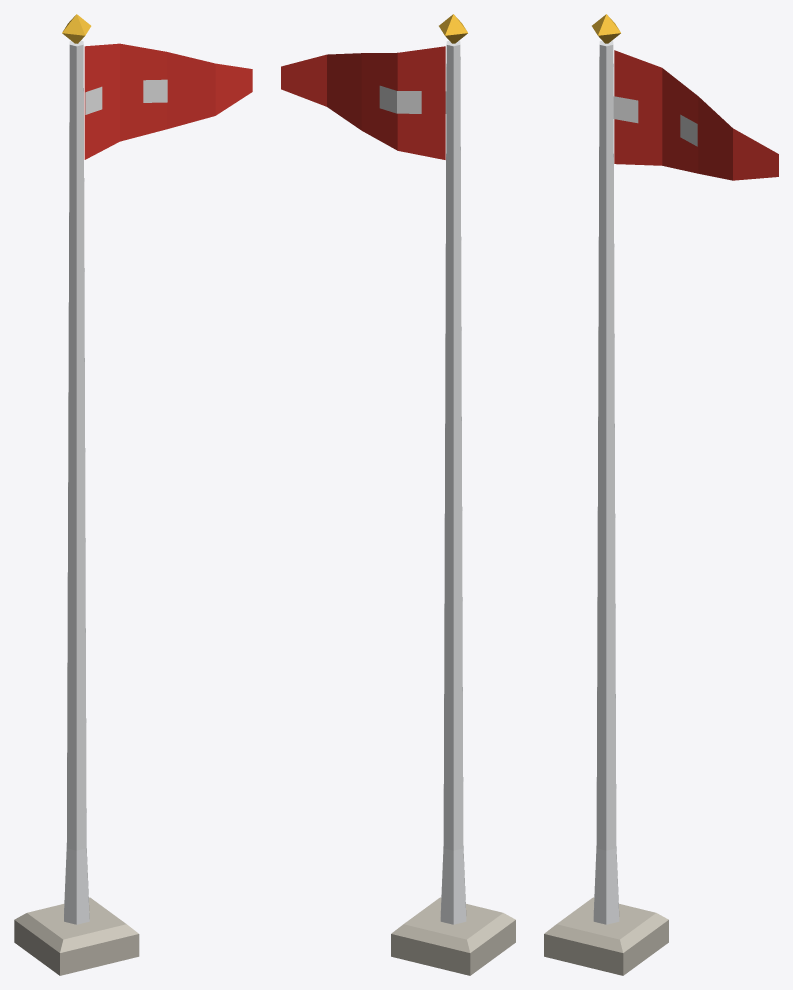
Rendered from flagpole.glb.
3 views of the same model, side by side, from view 1: azimuth 30°, elevation 25°; view 2: azimuth 150°, elevation 25°; view 3: azimuth 330°, elevation 25° (orthographic).
Visible parts, largest first — view 1: flagpole; view 2: flagpole; view 3: flagpole.
Boxes of the visible parts, box(x1,y1,x2,y2) form: flagpole: box(14, 14, 252, 975); flagpole: box(281, 14, 515, 975); flagpole: box(544, 14, 778, 975).
Bounding box in the file's own units: 0.216 × 0.903 × 0.08.
